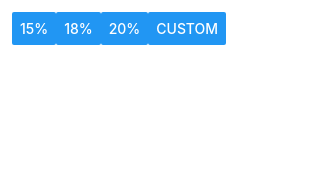
Test case: Tip component › valid custom tip is enabled when selecting custom tip
This screenshot has width=332, height=172.
Click the button "Custom".
click(187, 28)  # box [148,12,226,45]
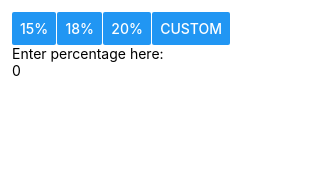
Expected: the text "Enter percentage here:" is shown, [12,45,164,62]
